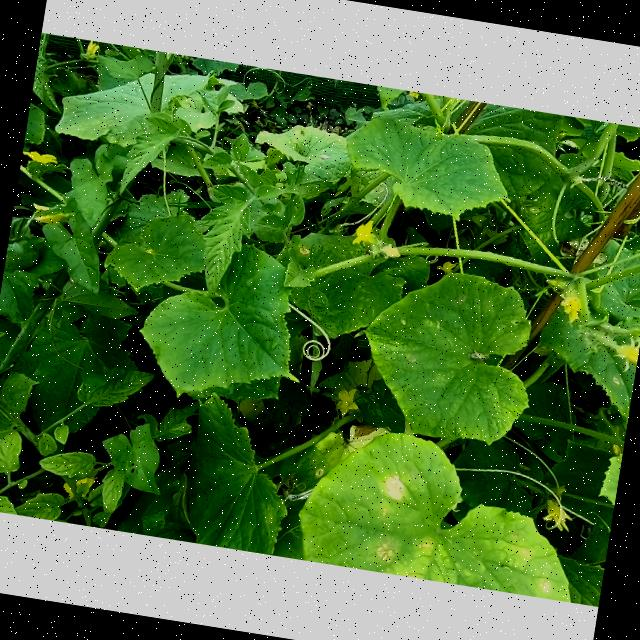Flowers: (20, 148, 70, 182), (538, 498, 574, 536), (33, 202, 76, 230), (60, 472, 96, 505), (612, 334, 640, 375), (557, 287, 586, 325), (333, 386, 364, 419), (350, 218, 378, 250), (78, 40, 104, 66), (436, 258, 460, 279)
